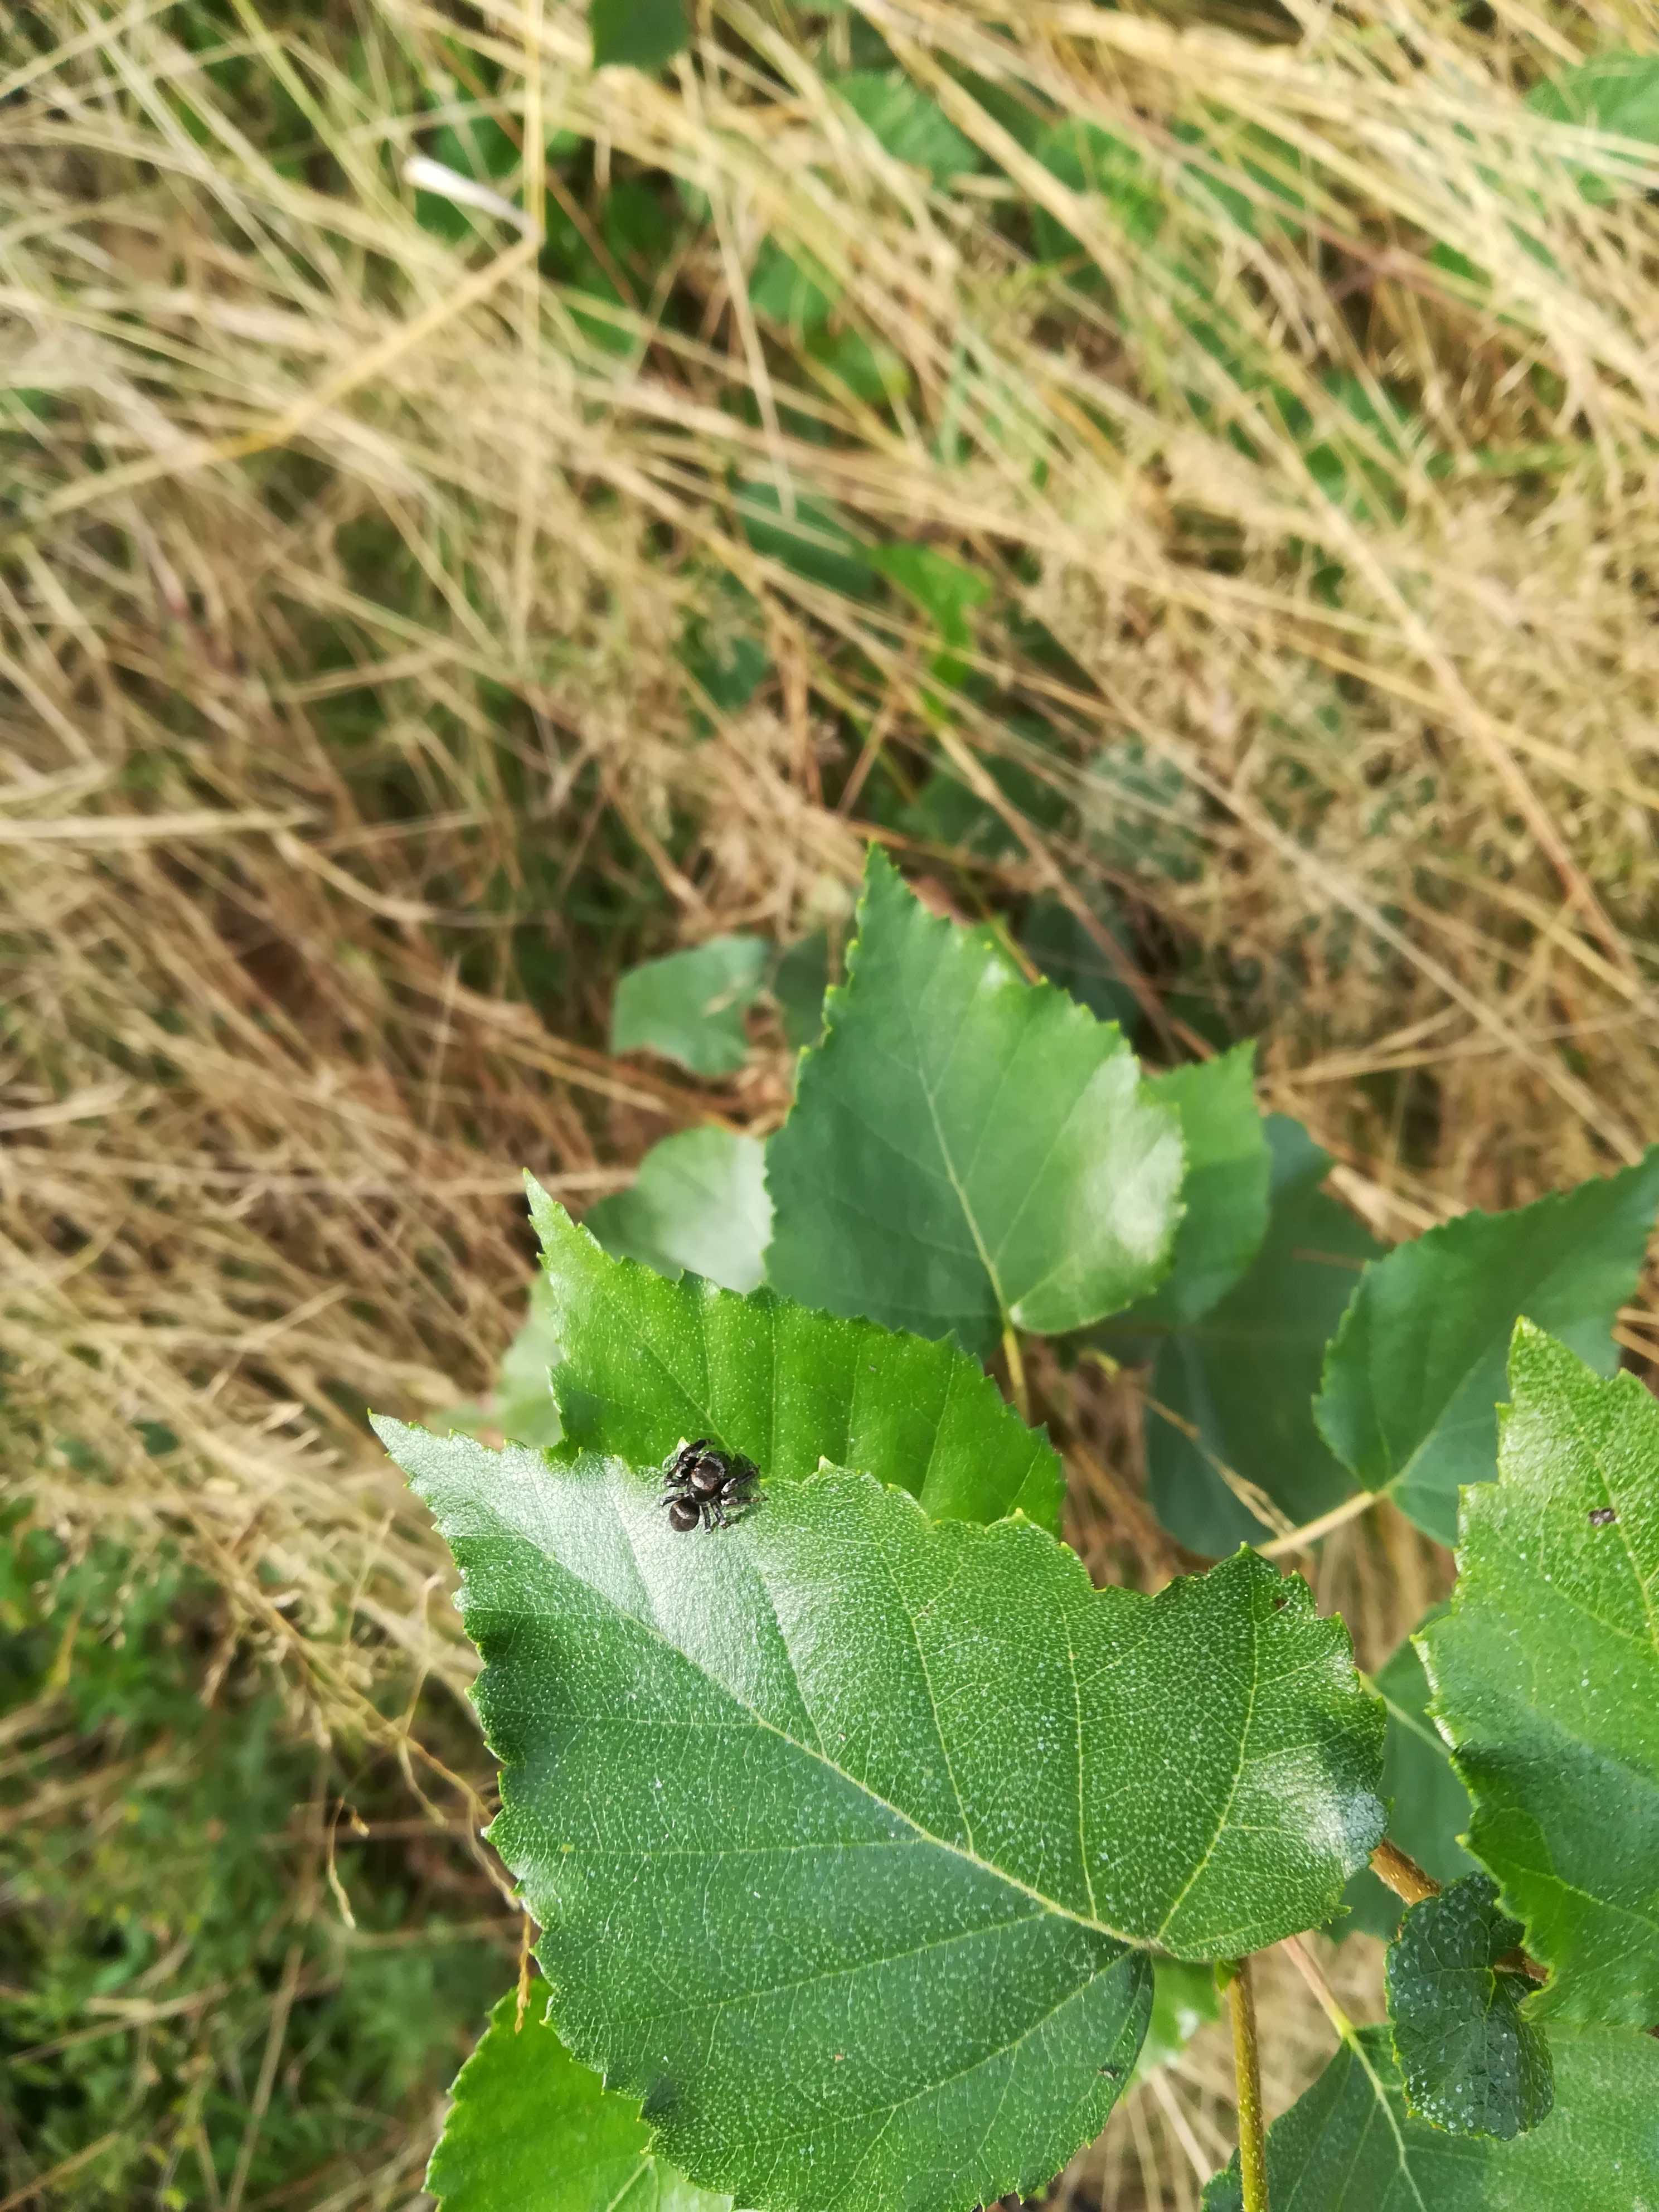spider: (634, 1418, 769, 1564)
